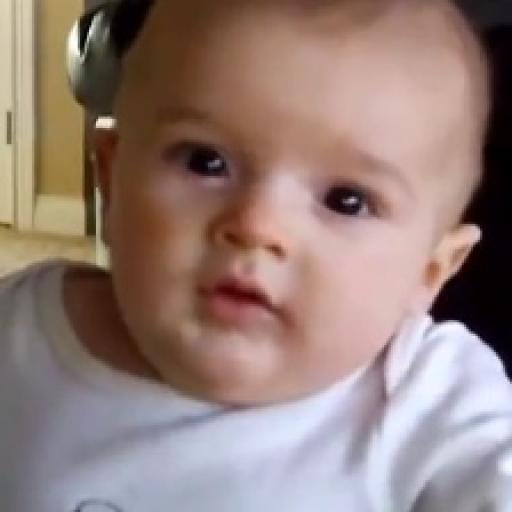Autism: (54, 5, 488, 472)
